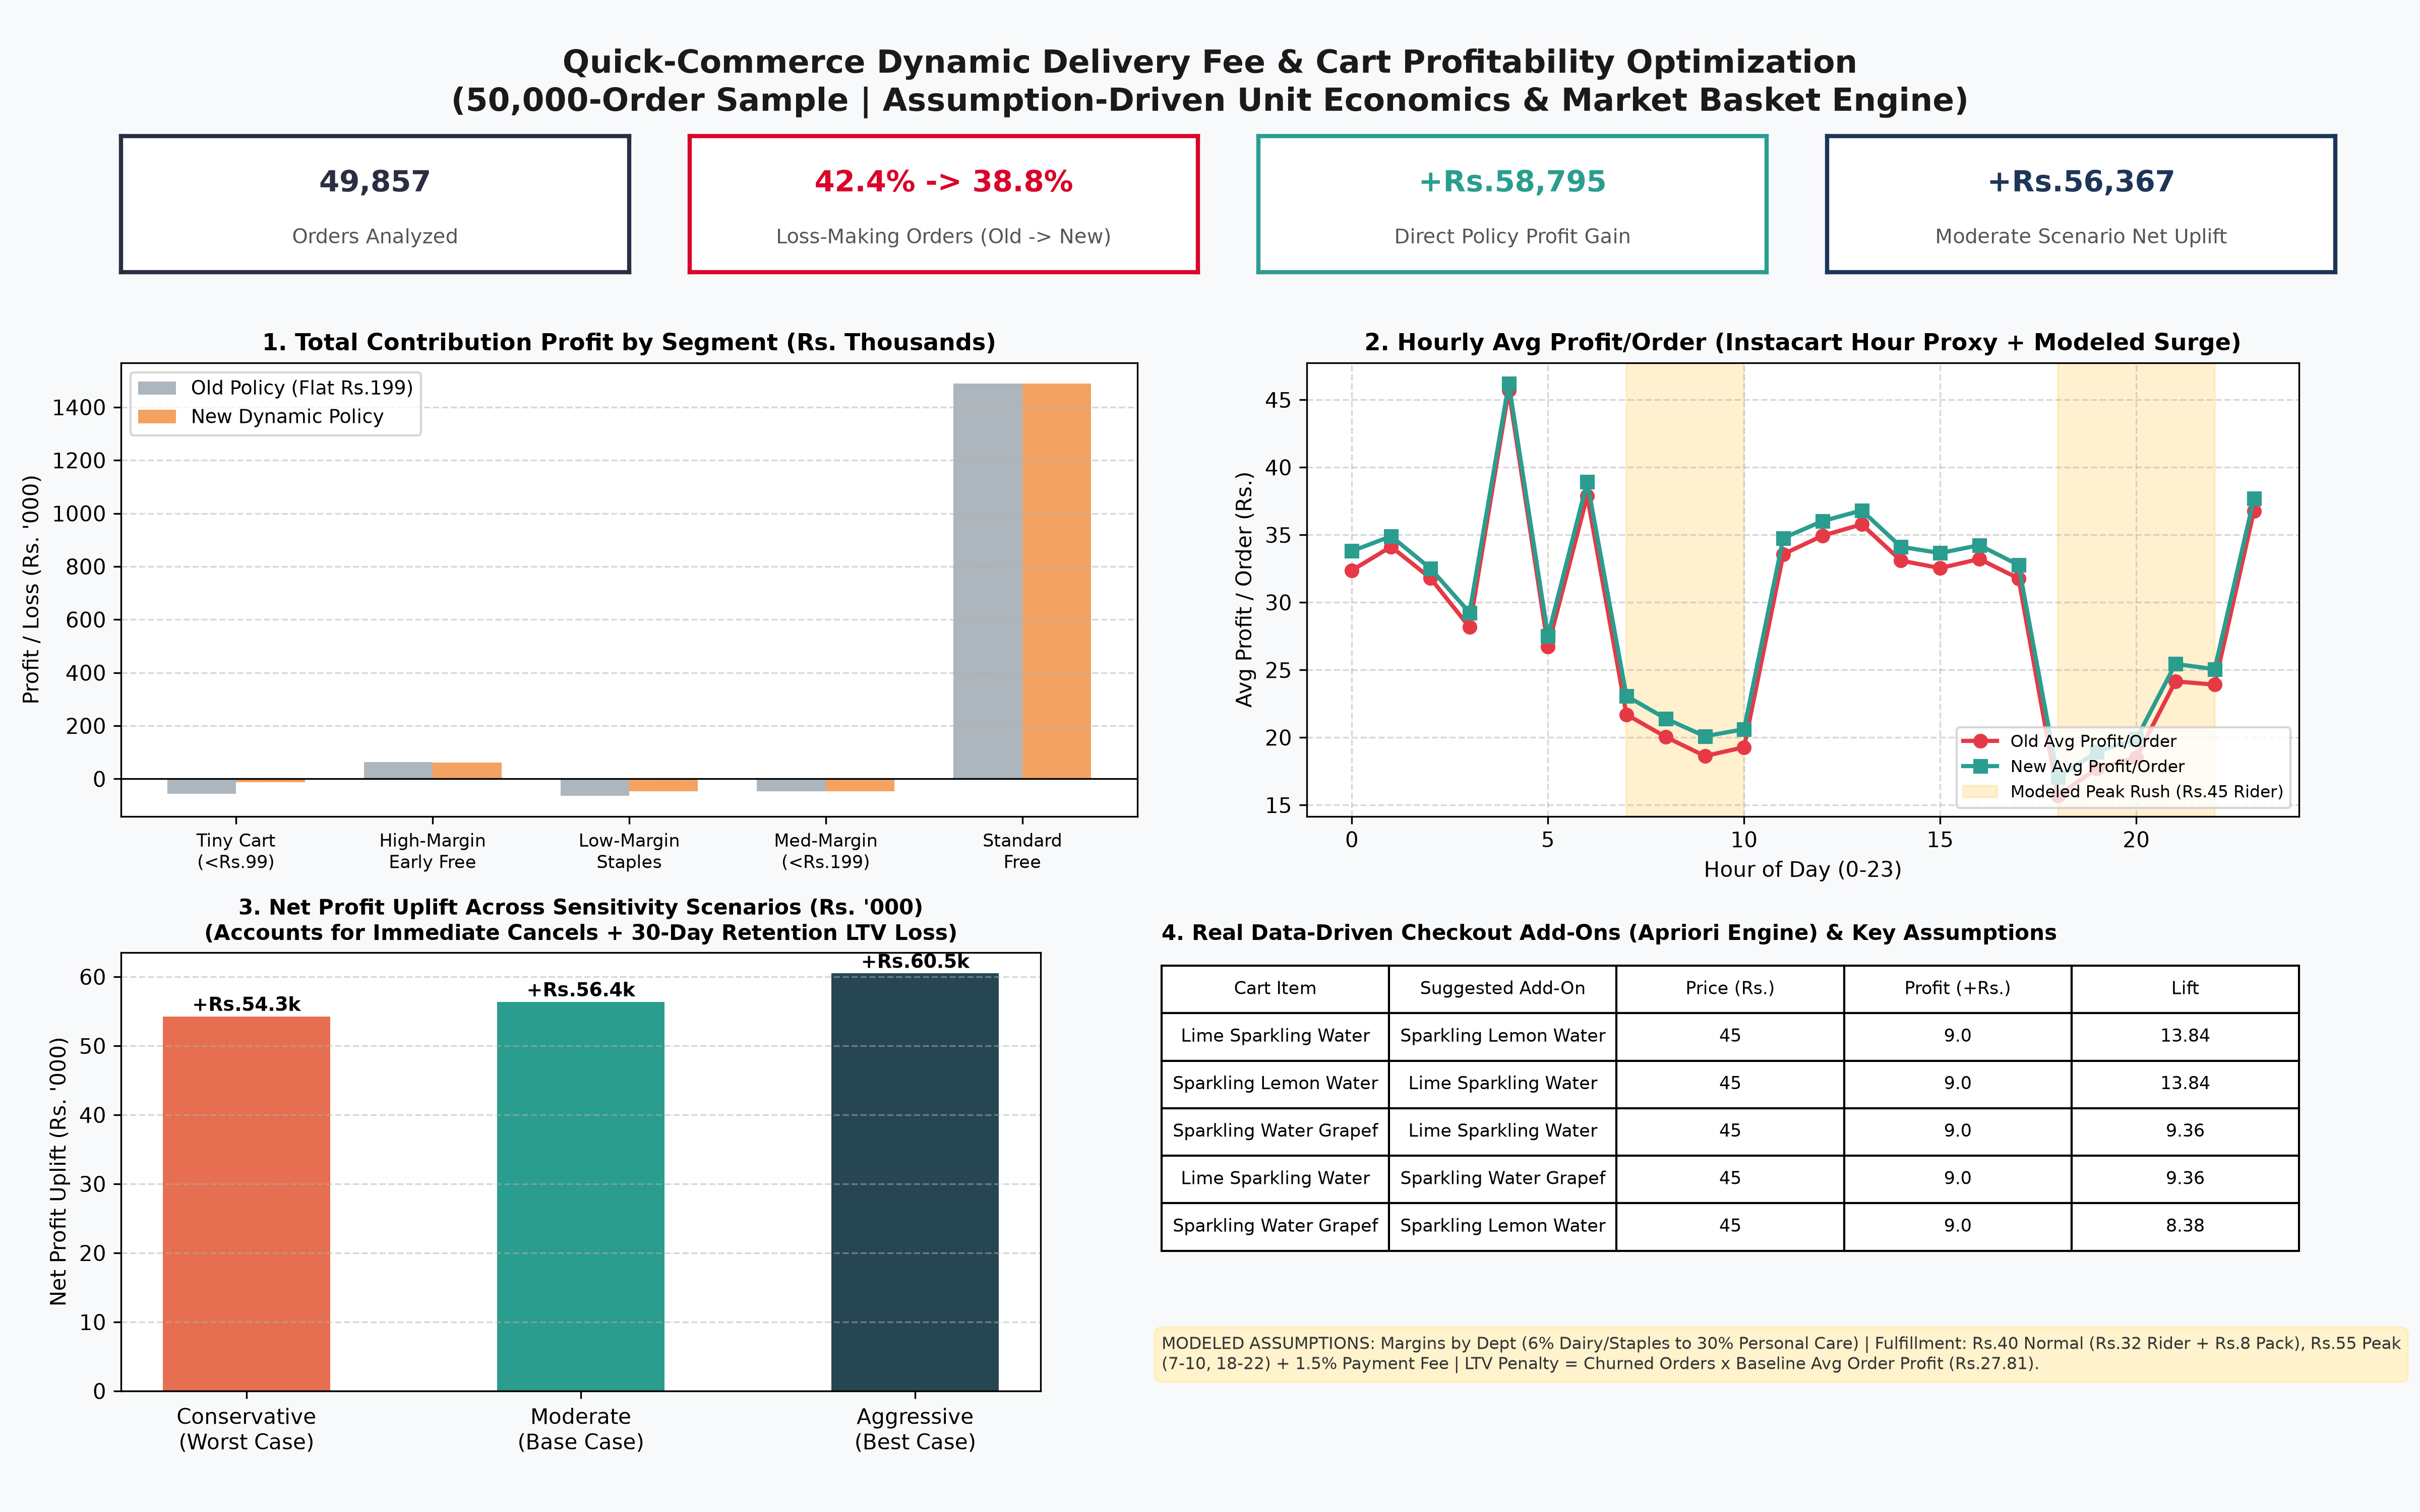

The dashboard page shown, as its layout file describes it:
{"tool":"powerbi","page":{"name":"Page 1","canvas":[1920,1080],"ordinal":0},"visuals":[{"type":"textbox","box":[0,0,1752,96],"z":0},{"type":"cardVisual","fields":{"Data":["Count(order_unit_economics.order_id)"]},"box":[0,120,336,168],"z":1},{"type":"cardVisual","fields":{"Data":["Sum(order_unit_economics.new_contribution_profit_inr)"]},"box":[888,120,336,168],"z":2},{"type":"cardVisual","fields":{"Data":["Sum(order_unit_economics.old_contribution_profit_inr)"]},"box":[456,120,336,168],"z":3},{"type":"clusteredColumnChart","fields":{"Category":["order_unit_economics.new_policy_segment"],"Y":["Sum(order_unit_economics.old_contribution_profit_inr)","Sum(order_unit_economics.new_contribution_profit_inr)"]},"box":[0,336,816,336],"z":4},{"type":"lineChart","fields":{"Category":["order_unit_economics.order_hour_of_day"],"Y":["Avg(order_unit_economics.old_contribution_profit_inr)","Avg(order_unit_economics.new_contribution_profit_inr)"]},"box":[936,336,840,336],"z":5},{"type":"clusteredColumnChart","fields":{"Category":["sensitivity_scenarios.Scenario"],"Y":["Sum(sensitivity_scenarios.Net_Profit_Uplift_INR)"]},"box":[0,720,816,336],"z":6},{"type":"tableEx","fields":{"Values":["smart_addon_bundles.trigger_item","smart_addon_bundles.recommended_addon","Sum(smart_addon_bundles.unit_price_inr)","Sum(smart_addon_bundles.item_profit_inr)","Sum(smart_addon_bundles.lift)"]},"box":[936,720,840,336],"z":7}]}

Visuals, with their boxes on the page's 1920x1080 design canvas (x1, y1, x2, y2). These are canvas units, not pixel positions in the 2420x1512 screenshot, which may show the page scaled, cropped or inside an application window:
textbox: <region>0, 0, 1752, 96</region>
cardVisual - Count(order_unit_economics.order_id): <region>0, 120, 336, 288</region>
cardVisual - Sum(order_unit_economics.new_contribution_profit_inr): <region>888, 120, 1224, 288</region>
cardVisual - Sum(order_unit_economics.old_contribution_profit_inr): <region>456, 120, 792, 288</region>
clusteredColumnChart - order_unit_economics.new_policy_segment x Sum(order_unit_economics.old_contribution_profit_inr): <region>0, 336, 816, 672</region>
lineChart - order_unit_economics.order_hour_of_day x Avg(order_unit_economics.old_contribution_profit_inr): <region>936, 336, 1776, 672</region>
clusteredColumnChart - sensitivity_scenarios.Scenario x Sum(sensitivity_scenarios.Net_Profit_Uplift_INR): <region>0, 720, 816, 1056</region>
tableEx - smart_addon_bundles.trigger_item x smart_addon_bundles.recommended_addon: <region>936, 720, 1776, 1056</region>
